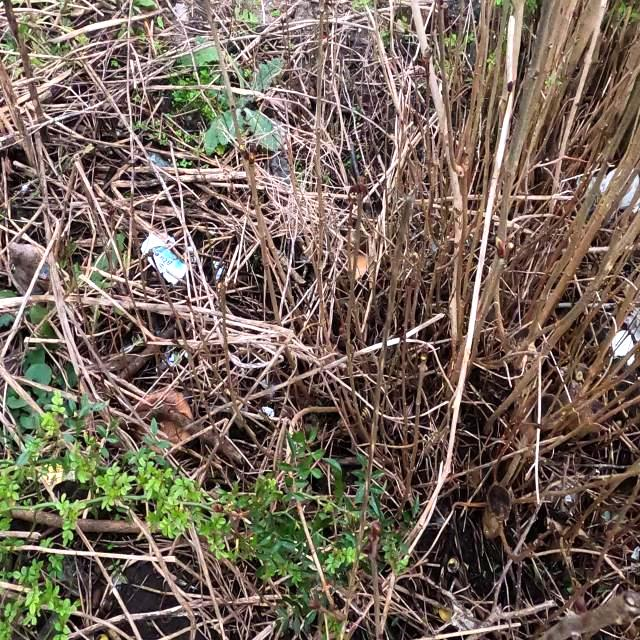Plastic: (140, 230, 188, 288)
